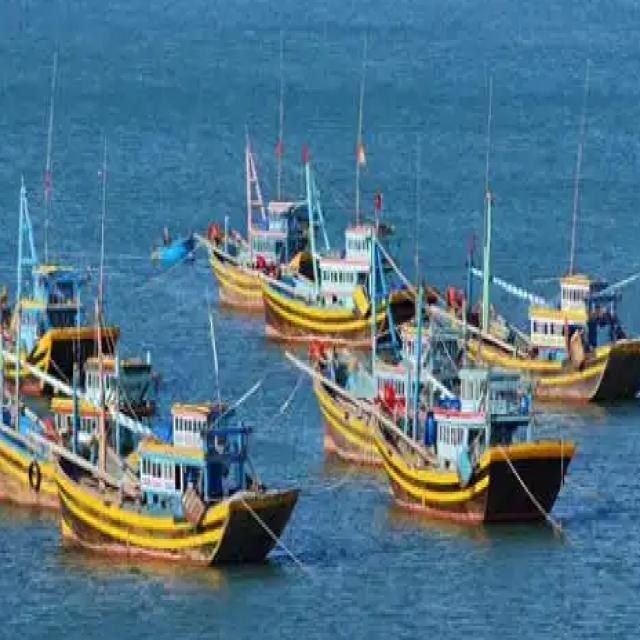fishing boat: (58, 380, 315, 569), (390, 216, 640, 404), (371, 313, 576, 536), (286, 312, 478, 463), (206, 109, 327, 304), (0, 211, 121, 390), (258, 200, 411, 340), (0, 362, 121, 519), (48, 332, 157, 443)
